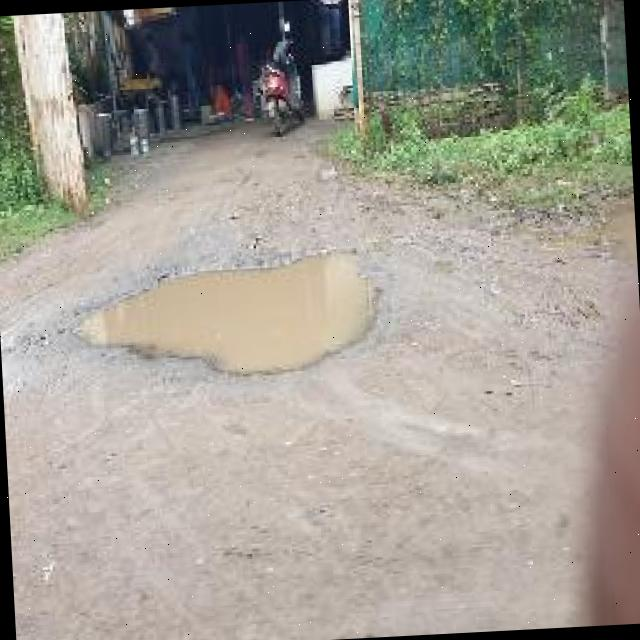stagnation: (61, 252, 461, 394)
